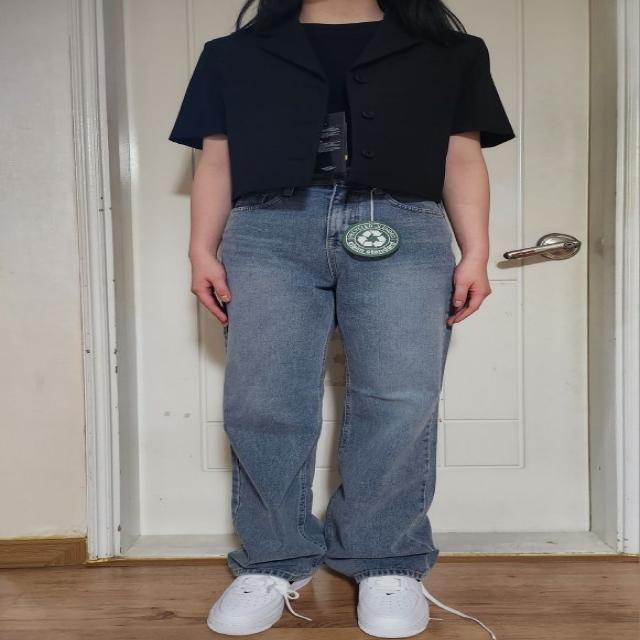blazer: (170, 12, 519, 203)
denimpants: (214, 181, 456, 580)
